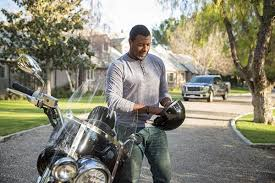person: (106, 23, 179, 183)
